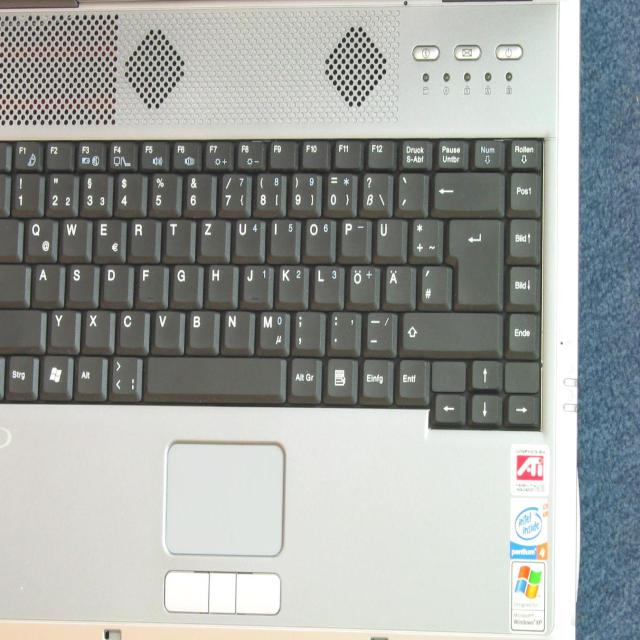0: (324, 171, 355, 214)
1: (11, 171, 40, 214)
2: (44, 170, 75, 215)
3: (78, 170, 110, 214)
4: (114, 170, 143, 213)
5: (148, 170, 178, 213)
6: (183, 170, 213, 213)
7: (219, 171, 248, 214)
8: (253, 170, 284, 214)
9: (289, 171, 320, 214)
a: (32, 261, 61, 302)
accent: (395, 171, 425, 213)
ae: (384, 263, 413, 305)
alt-left: (75, 353, 104, 395)
altgr-right: (288, 354, 320, 397)
b: (186, 308, 216, 349)
c: (117, 308, 147, 348)
caret: (0, 172, 15, 212)
comma: (292, 308, 322, 351)
d: (100, 262, 130, 304)
del: (431, 170, 502, 211)
e: (93, 216, 122, 259)
enter: (447, 216, 500, 306)
f: (137, 262, 165, 303)
g: (170, 262, 198, 302)
h: (206, 263, 234, 303)
hash: (418, 263, 450, 306)
i: (268, 216, 298, 257)
j: (241, 262, 271, 304)
k: (277, 263, 306, 304)
keyboard: (0, 131, 546, 436)
l: (312, 262, 342, 304)
less: (109, 354, 141, 399)
m: (257, 308, 289, 353)
minus: (365, 309, 394, 352)
n: (222, 308, 252, 349)
o: (303, 216, 333, 258)
oe: (348, 262, 377, 305)
p: (338, 215, 369, 258)
plus: (409, 216, 441, 259)
point: (328, 309, 359, 351)
q: (24, 216, 55, 259)
r: (128, 216, 157, 257)
s: (66, 261, 94, 302)
shift-left: (0, 305, 42, 348)
shift-lock: (0, 261, 26, 303)
shift-right: (400, 308, 501, 351)
space: (146, 353, 283, 398)
ss: (360, 170, 390, 213)
strg-left: (5, 352, 35, 395)
t: (164, 216, 192, 257)
tab: (0, 215, 21, 257)
u: (232, 216, 262, 258)
ue: (374, 215, 404, 258)
v: (153, 308, 181, 348)
w: (59, 216, 88, 257)
x: (84, 308, 112, 349)
y: (49, 307, 78, 349)
z: (198, 216, 226, 257)
